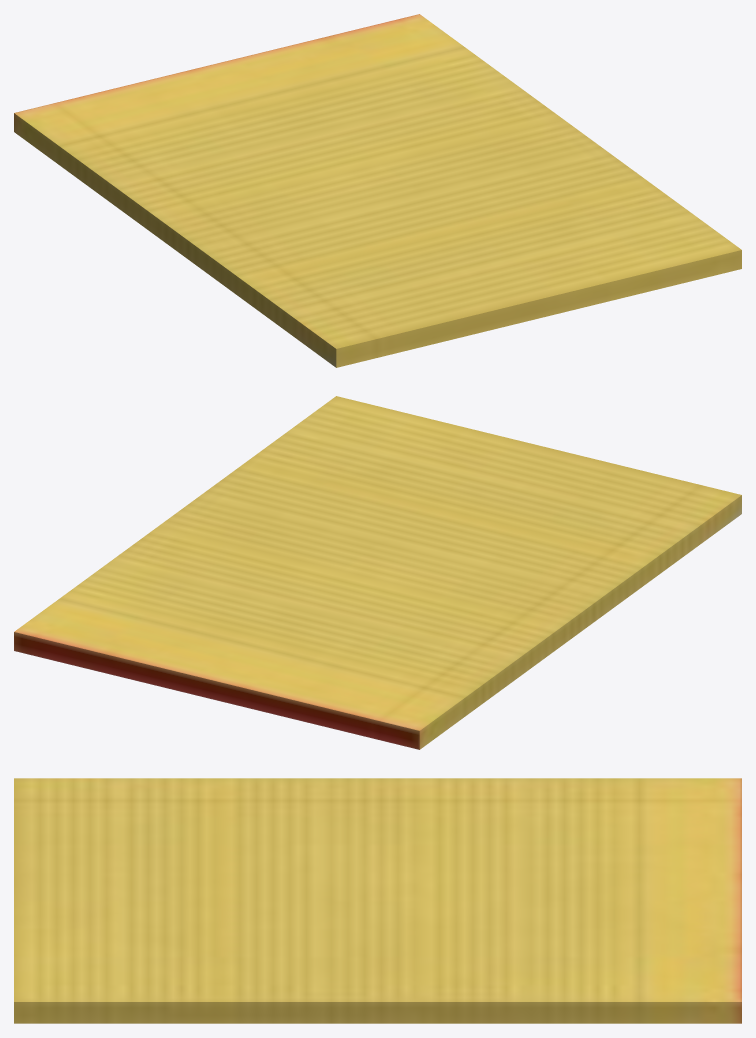
File: notepads.glb
The picture shows the model from 3 angles, top to bottom: view 1: azimuth 30°, elevation 25°; view 2: azimuth 150°, elevation 25°; view 3: azimuth 270°, elevation 25°; orthographic projection. The views are drawn at different scales.
Parts seen in each view (by area): view 1: office_notepads_yellow_pad; view 2: office_notepads_yellow_pad; view 3: office_notepads_yellow_pad.
Boxes of the visible parts, <box> form: office_notepads_yellow_pad: <box>14,14,741,367</box>; office_notepads_yellow_pad: <box>14,396,741,749</box>; office_notepads_yellow_pad: <box>14,778,741,1023</box>.
Bounding box in the file's own units: 0.2233 × 0.01 × 0.3073.
1 material, 1 textured.
